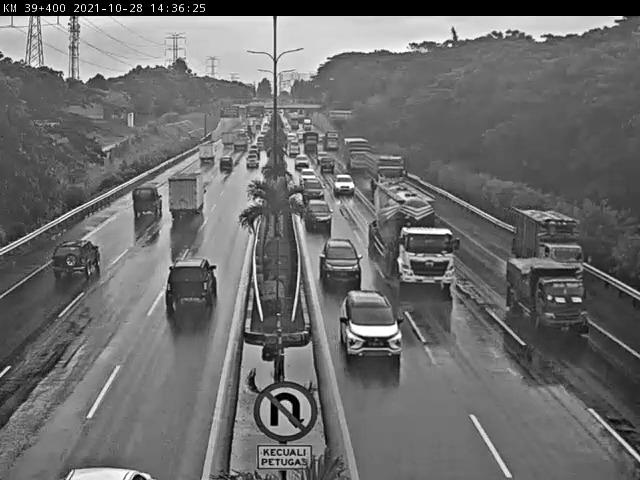big truck: (369, 185, 455, 291), (366, 150, 406, 196), (169, 175, 207, 217)
car: (339, 289, 405, 362), (165, 257, 219, 311), (49, 239, 101, 282), (319, 237, 362, 285), (129, 184, 163, 219), (302, 199, 333, 229), (303, 179, 325, 202), (334, 174, 356, 195), (216, 155, 235, 173), (299, 168, 318, 183), (245, 154, 261, 171)
small truck: (505, 258, 592, 339), (511, 204, 583, 258), (197, 144, 215, 165)
